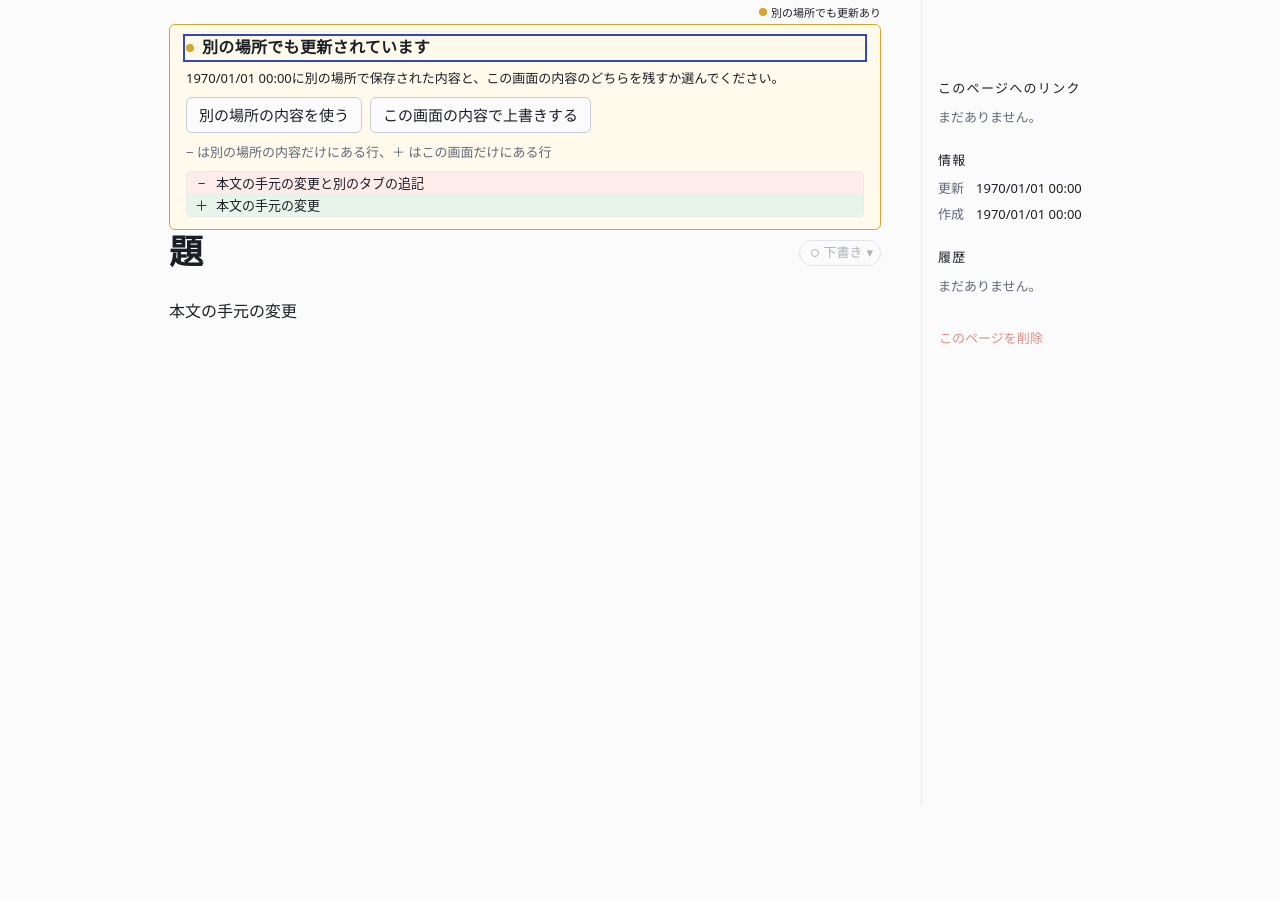
PageEditor と本文のエディタ › サーバーの版を取り込んだ後の undo で、取り込む前の手元の編集を新しい本文から取り消さない
Click the button "別の場所の内容を使う" at {"x": 274, "y": 115}, box x1=186 y1=97 x2=362 y2=133
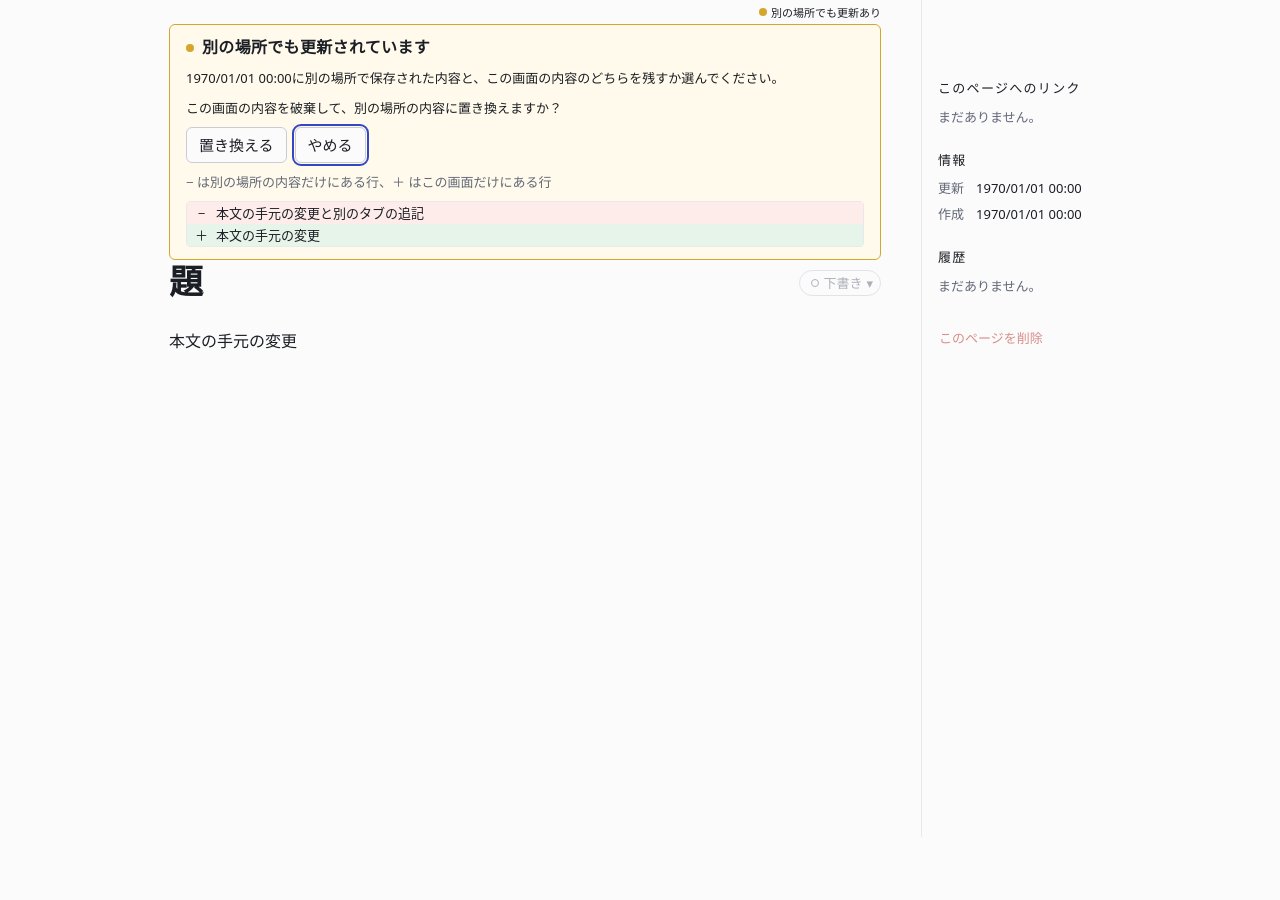
Click the button "置き換える" at {"x": 236, "y": 145}, box x1=186 y1=127 x2=287 y2=163
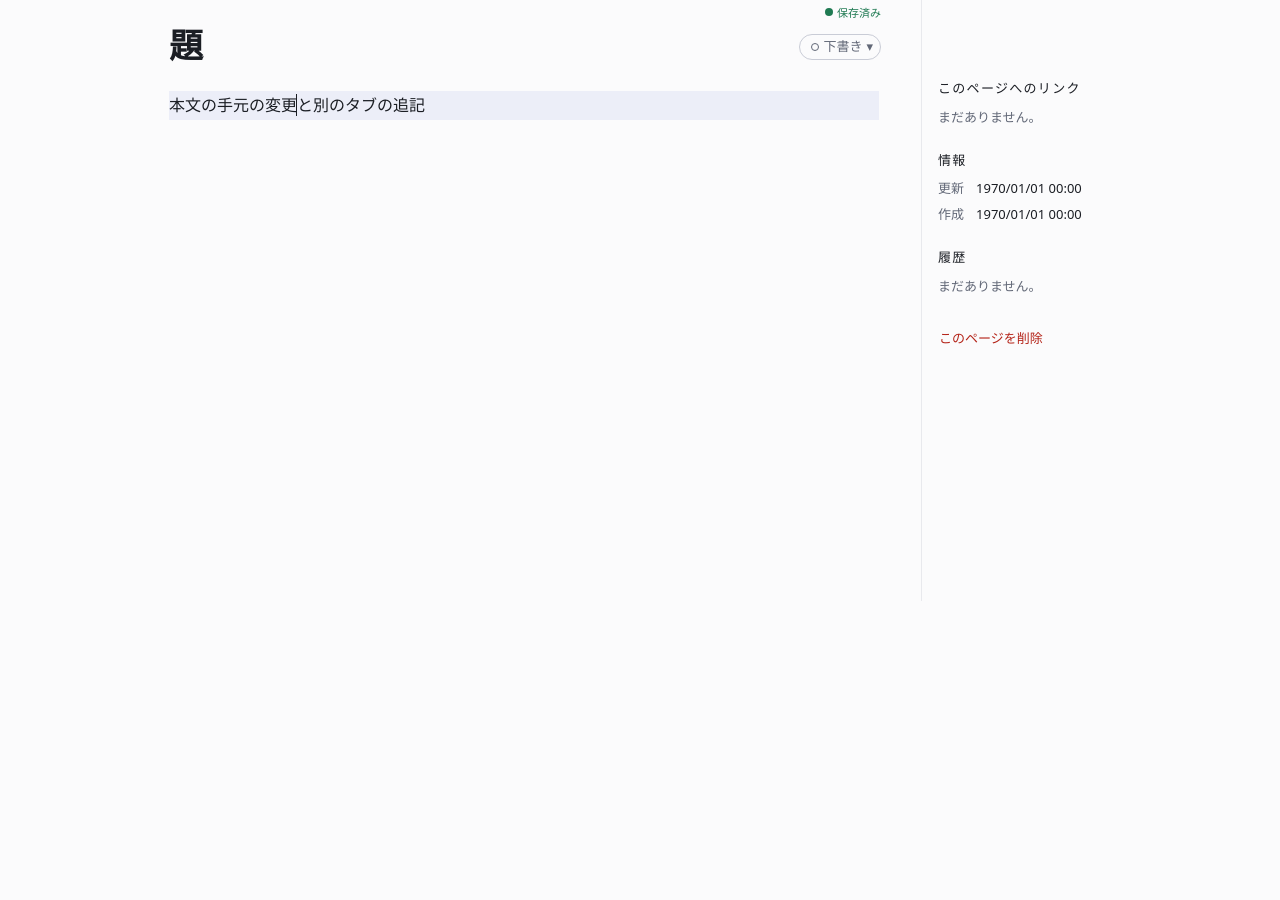
expect the text box labelled "本文の手元の変更と別のタブの追記" is shown: met, box x1=163 y1=91 x2=881 y2=120
